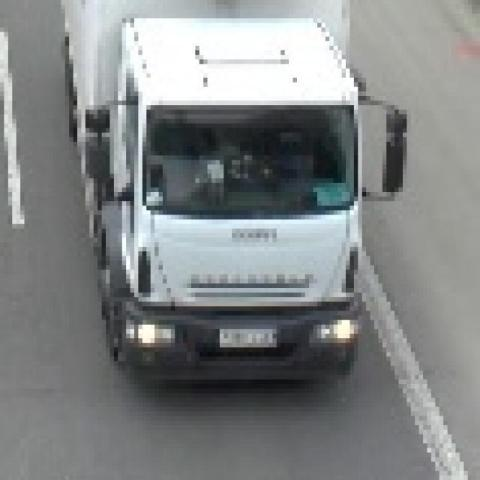truck: (52, 0, 403, 384)
